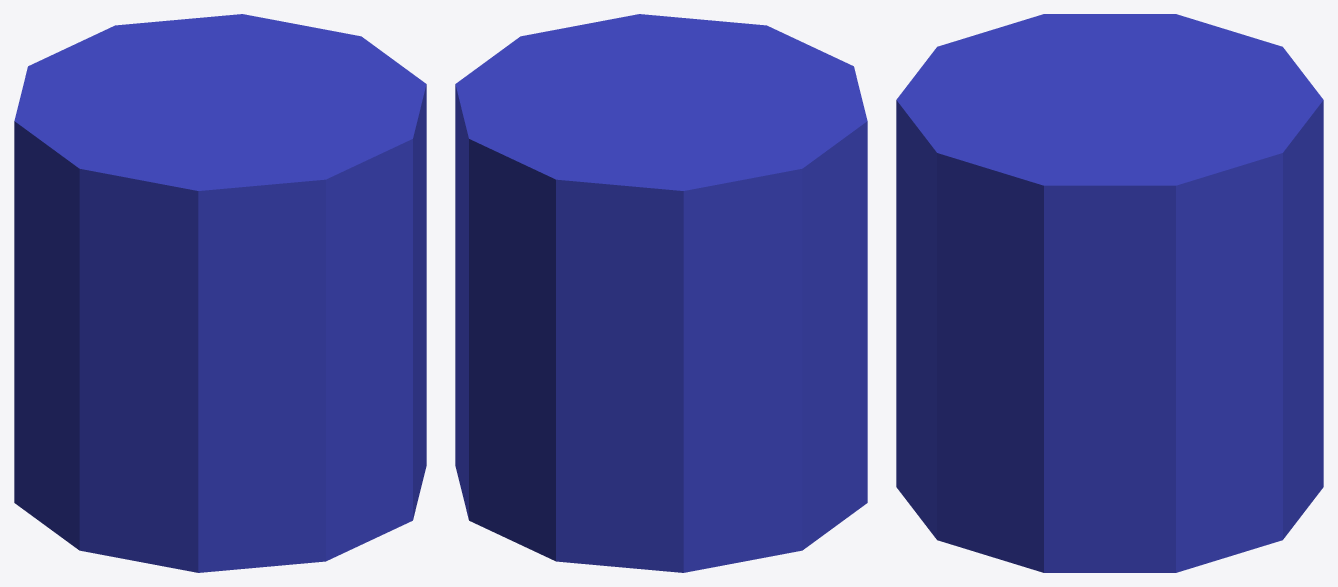
File: CylinderCollider.glb
3 views of the same model, side by side, from view 1: azimuth 30°, elevation 25°; view 2: azimuth 150°, elevation 25°; view 3: azimuth 270°, elevation 25° (orthographic).
Parts seen in each view (by area): view 1: Cylinder; view 2: Cylinder; view 3: Cylinder.
Part boxes in pixels (<box>): Cylinder: <box>14,14,426,572</box>; Cylinder: <box>455,14,867,572</box>; Cylinder: <box>896,14,1323,572</box>.
Size of the model in its own units: 0.9511 by 1 by 1.
Materials: 1 (1 with a texture image).
